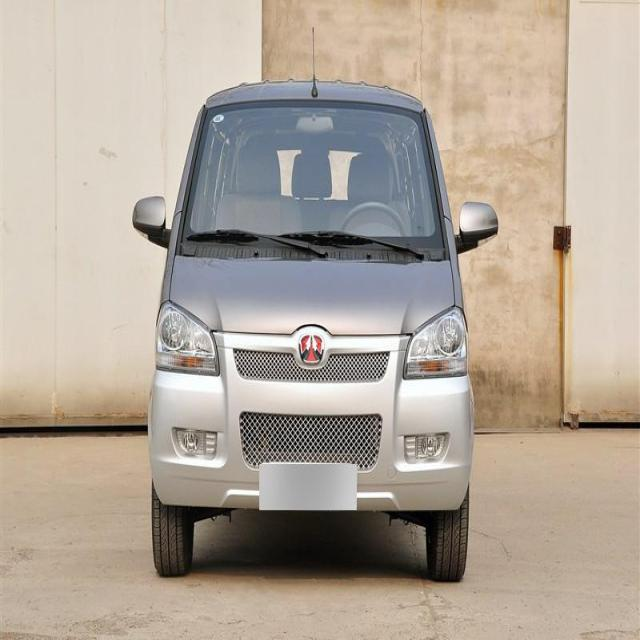front_bumper: (149, 362, 476, 509)
front_glass: (180, 103, 446, 260)
front_left_side_light: (402, 306, 470, 380)
front_left_side_mirror: (454, 198, 500, 256)
front_right_side_light: (154, 298, 222, 379)
front_right_side_mirror: (132, 191, 168, 249)
wheel: (151, 494, 193, 576), (426, 510, 471, 584)
